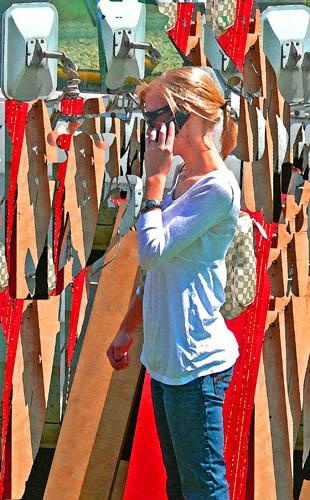person: (103, 62, 243, 500)
